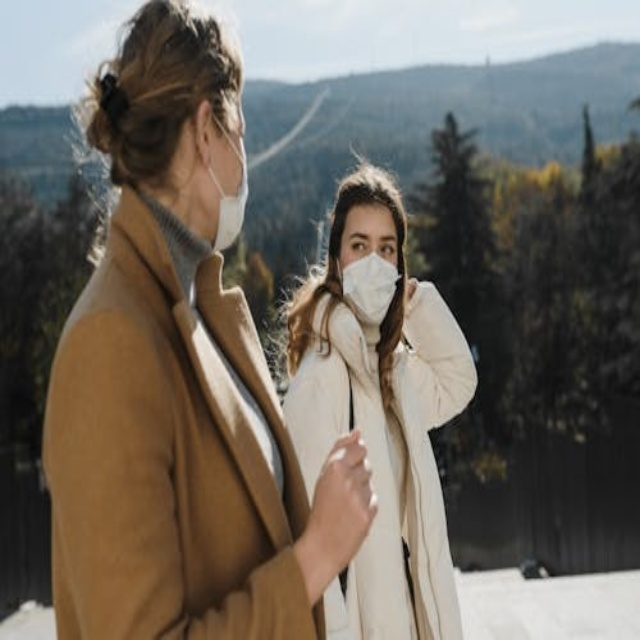Mascara: (208, 120, 249, 251), (341, 251, 402, 324)
Sin_gafas: (339, 220, 397, 255)
Sin_guantes: (305, 425, 390, 565)
